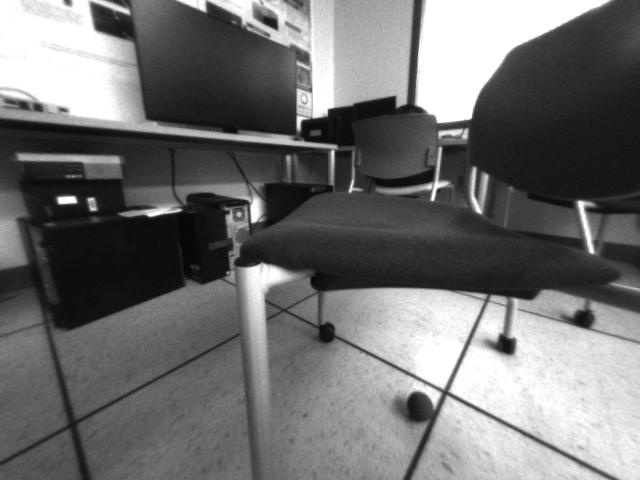dogtoy: (403, 381, 444, 426)
